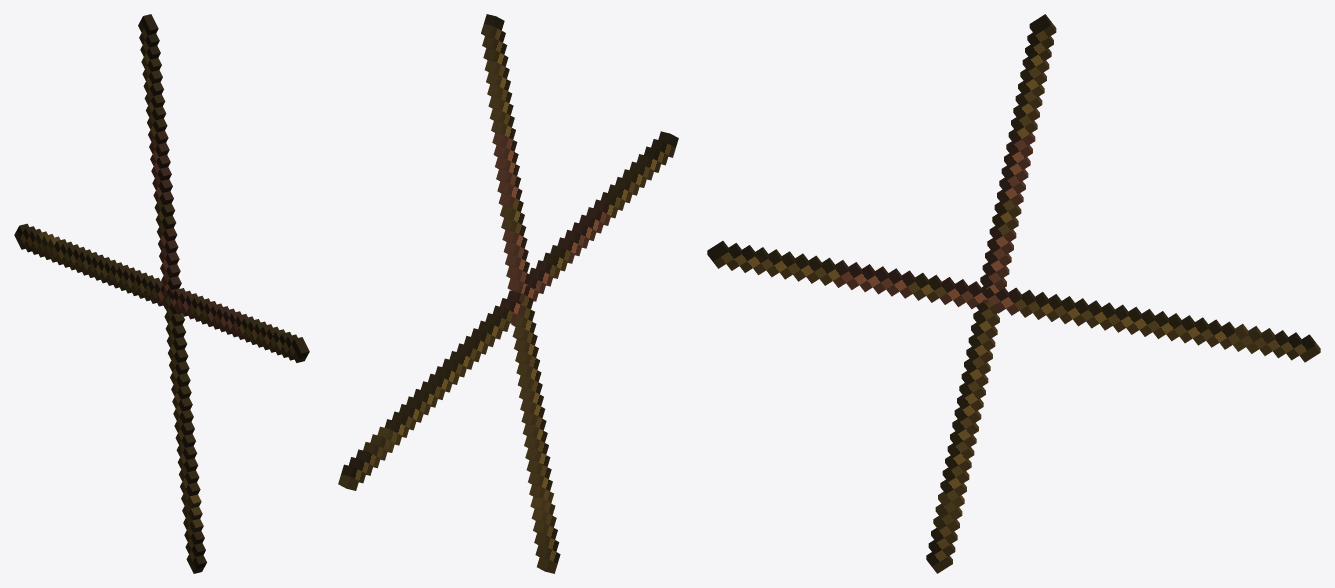
File: wood_pike.glb
The picture shows the model from 3 angles, left to right: view 1: azimuth 30°, elevation 25°; view 2: azimuth 150°, elevation 25°; view 3: azimuth 270°, elevation 25°; orthographic projection. The views are drawn at different scales.
Parts seen in each view (by area): view 1: off__Tool_L, main__Tool_R; view 2: off__Tool_L, main__Tool_R; view 3: main__Tool_R, off__Tool_L.
Boxes of the visible parts, x1,y1,x2,y2 form: off__Tool_L: (138, 14, 206, 573); main__Tool_R: (14, 223, 309, 362); off__Tool_L: (481, 14, 560, 573); main__Tool_R: (338, 131, 678, 490); main__Tool_R: (707, 241, 1320, 362); off__Tool_L: (926, 14, 1056, 573).
Bounding box in the file's own units: 0.0625 × 3.75 × 3.75.
Materials: 1 (1 with a texture image).
